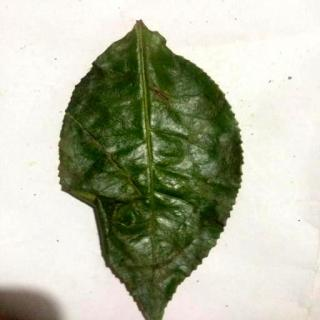Red Leaf Spot: (59, 20, 245, 320)
